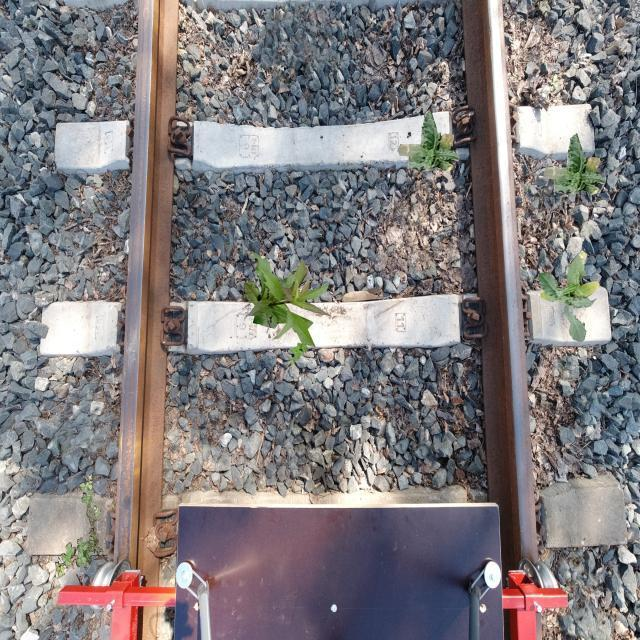Plant: (244, 250, 332, 348), (538, 250, 600, 344), (55, 474, 104, 578), (543, 133, 606, 195), (397, 110, 460, 172), (289, 340, 308, 364)
